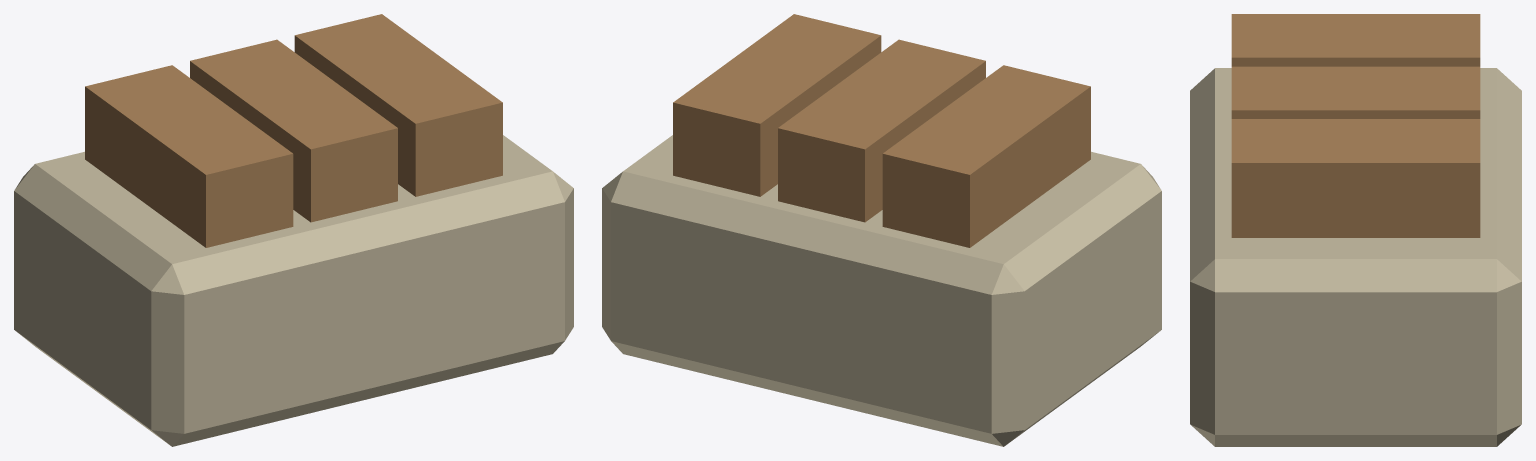
The model's file is set_medicine_blister.glb.
3 renders of one model, left to right at view 1: azimuth 30°, elevation 25°; view 2: azimuth 150°, elevation 25°; view 3: azimuth 270°, elevation 25°, orthographic. The views are drawn at different scales.
Visible parts, largest first — view 1: set_medicine_blister; view 2: set_medicine_blister; view 3: set_medicine_blister.
Boxes of the visible parts, x1,y1,x2,y2 form: set_medicine_blister: (14, 14, 573, 446); set_medicine_blister: (602, 14, 1161, 446); set_medicine_blister: (1190, 14, 1521, 446).
Bounding box in the file's own units: 0.242 × 0.14 × 0.16.
